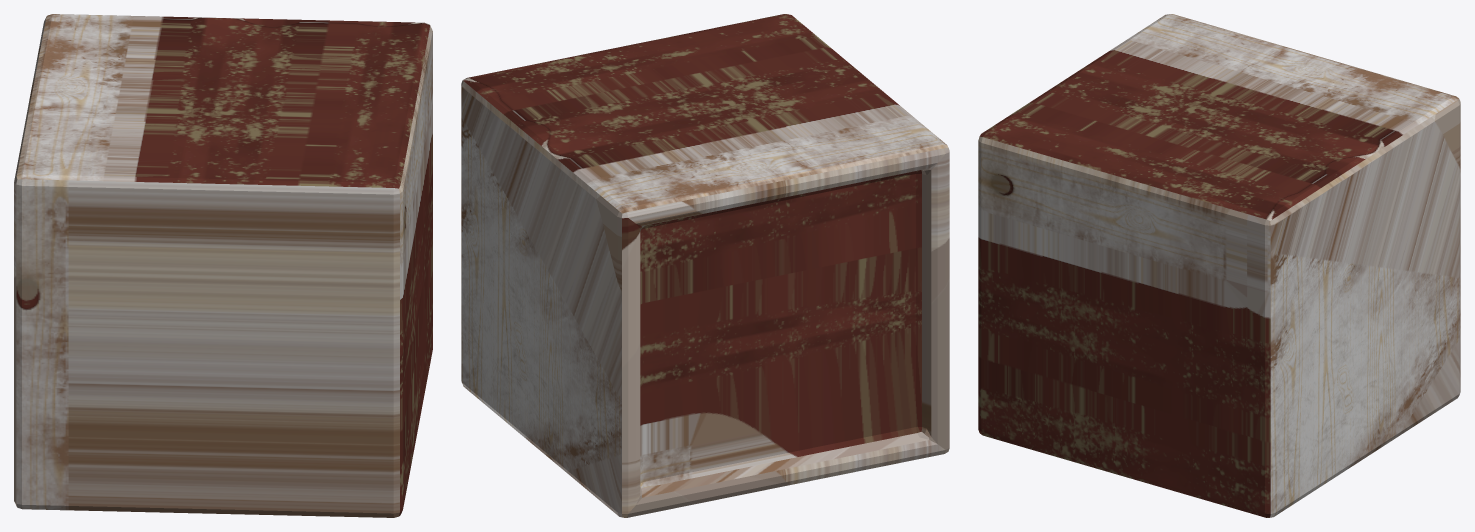
The picture shows the model from 3 angles, left to right: view 1: azimuth 30°, elevation 25°; view 2: azimuth 150°, elevation 25°; view 3: azimuth 270°, elevation 25°; orthographic projection. The views are drawn at different scales.
Visible parts, largest first — view 1: télés.002; view 2: télés.002; view 3: télés.002.
Boxes of the visible parts, <box> form: télés.002: <box>14,14,432,517</box>; télés.002: <box>461,14,949,517</box>; télés.002: <box>978,14,1460,517</box>.
Size of the model in its own units: 89.16 by 60.5 by 87.46.
